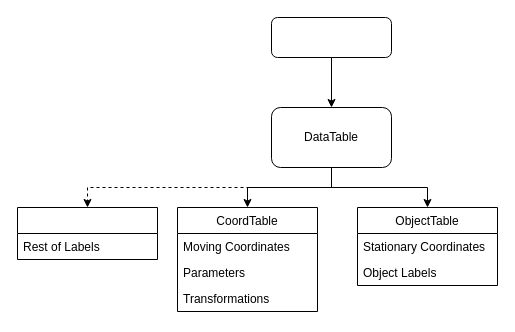
Some shapes in this 515 by 332 pixel diagram are drawn without their labels. Here are the shapes that lost their labels. From the top down, the box of each, then its label:
(270, 16, 392, 58): CSV-File
(16, 206, 158, 260): AllTable
